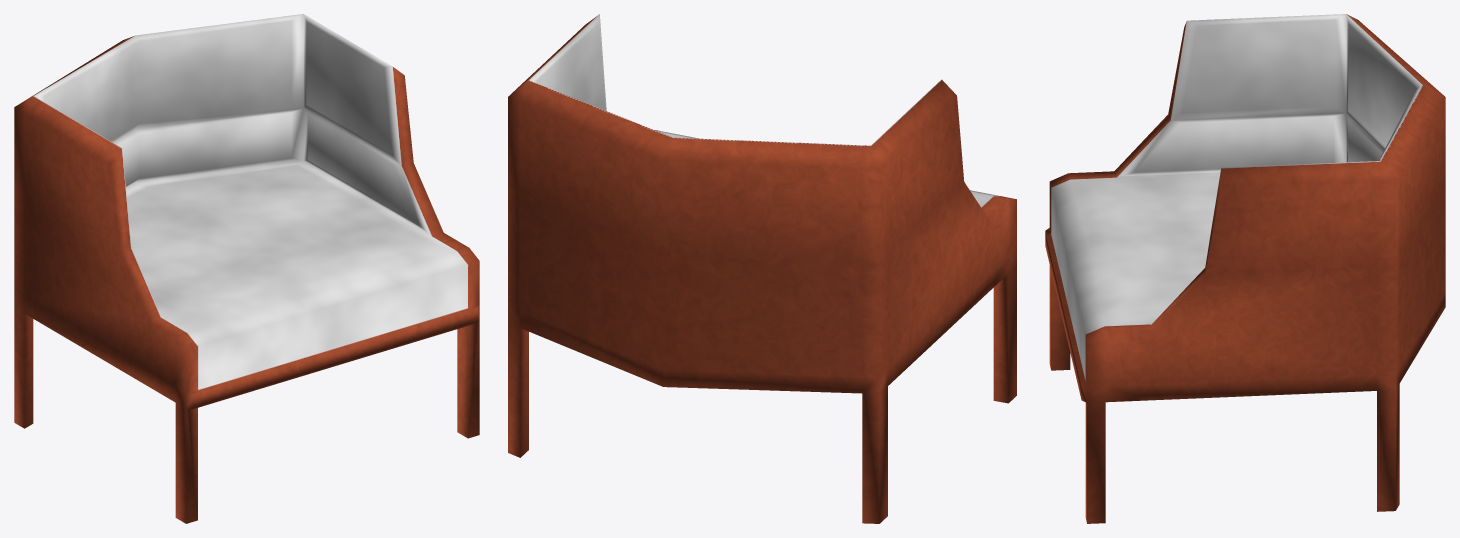
The model's file is chair.glb.
The picture shows the model from 3 angles, left to right: view 1: azimuth 30°, elevation 25°; view 2: azimuth 150°, elevation 25°; view 3: azimuth 270°, elevation 25°; orthographic projection. The views are drawn at different scales.
Visible parts, largest first — view 1: Cube.001; view 2: Cube.001; view 3: Cube.001.
Boxes of the visible parts, <box> form: Cube.001: <box>14,14,479,523</box>; Cube.001: <box>508,14,1016,523</box>; Cube.001: <box>1045,14,1445,523</box>.
Size of the model in its own units: 1.07 by 0.993 by 1.05.
Materials: 1 (1 with a texture image).
